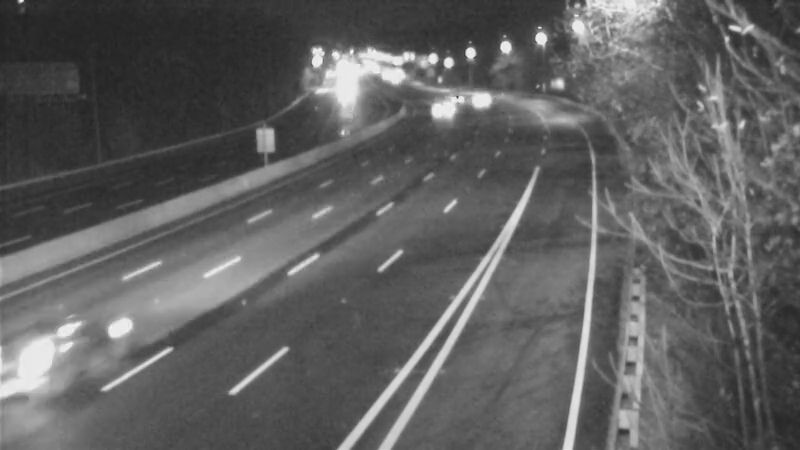vehicle: (9, 289, 119, 399), (456, 72, 506, 122), (433, 73, 483, 123), (418, 84, 468, 134)
